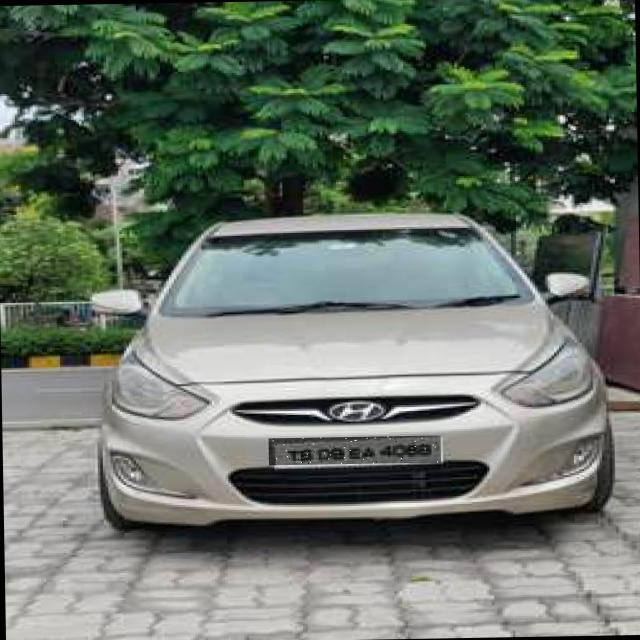Plate: (270, 436, 442, 466)
